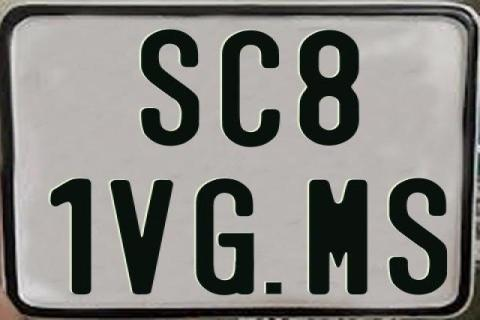0: (297, 29, 359, 149), (49, 179, 92, 299)
C: (222, 29, 280, 147)
G: (194, 176, 252, 294)
M: (306, 177, 367, 295)
S: (140, 26, 200, 146), (388, 175, 447, 293)
V: (110, 178, 178, 294)
